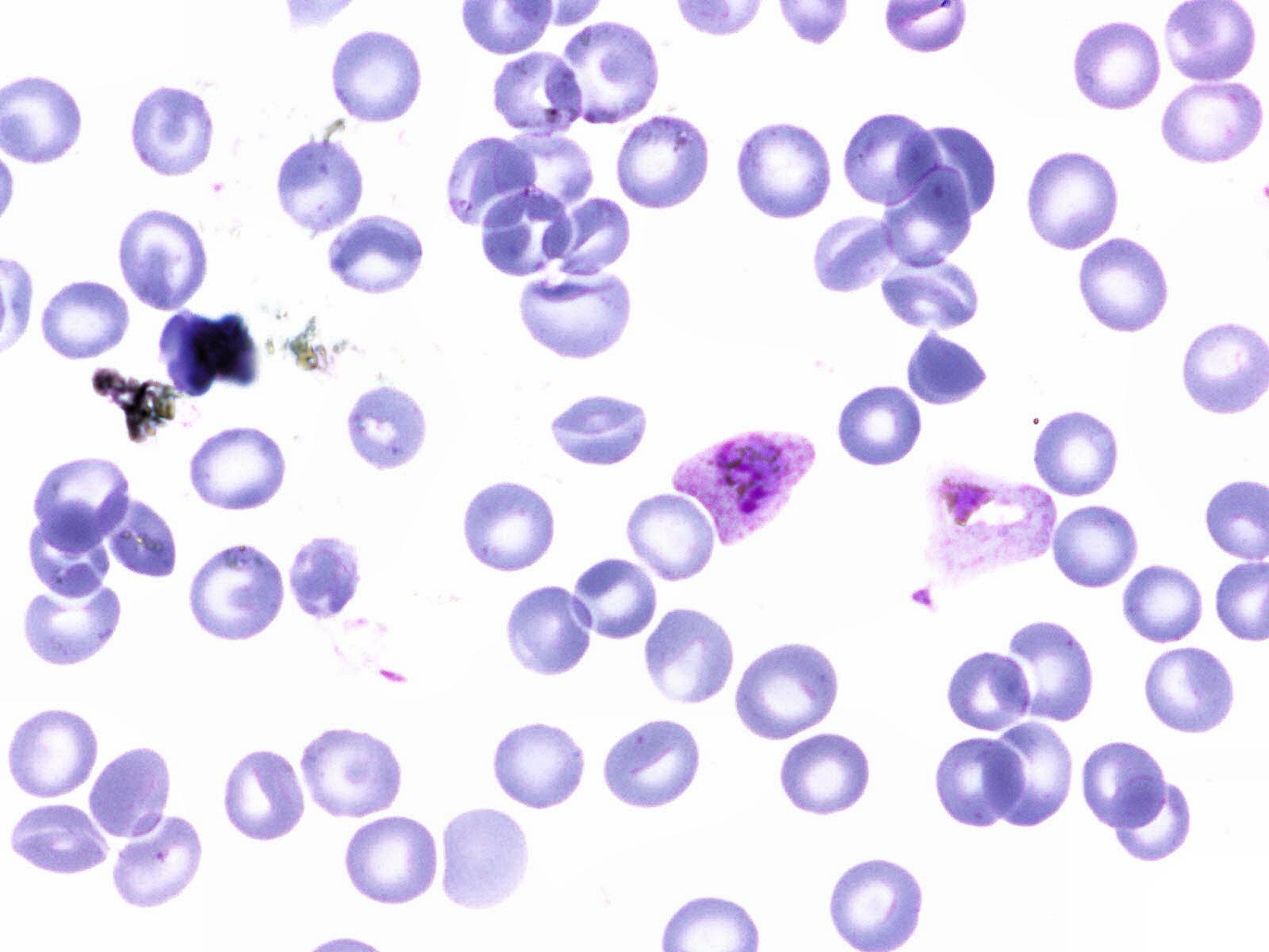Infected: (669, 429, 819, 545), (921, 469, 1064, 583)
Uninfected: (734, 638, 844, 744), (557, 18, 661, 128), (980, 716, 1075, 831), (842, 106, 947, 209), (186, 537, 287, 644), (515, 268, 628, 363), (442, 131, 547, 233), (998, 620, 1098, 727), (112, 204, 209, 313), (32, 450, 132, 555), (106, 806, 205, 912), (732, 120, 834, 222), (895, 121, 998, 222), (878, 157, 966, 275), (1026, 147, 1121, 256), (301, 722, 404, 820), (598, 719, 704, 814), (613, 111, 711, 210), (1066, 15, 1166, 112), (329, 27, 425, 128), (1076, 236, 1171, 337), (490, 128, 596, 218), (186, 422, 286, 517), (642, 605, 734, 708), (84, 739, 170, 849), (1157, 75, 1262, 165), (1078, 735, 1173, 834), (24, 575, 125, 668), (440, 806, 530, 910), (5, 706, 101, 802), (935, 732, 1029, 830), (1141, 643, 1237, 738), (460, 482, 558, 574), (565, 551, 664, 642), (275, 134, 363, 236), (475, 186, 573, 277), (1179, 320, 1268, 420), (491, 718, 585, 812), (491, 46, 586, 139), (343, 816, 439, 908), (27, 497, 110, 601), (624, 490, 718, 581), (130, 83, 217, 181), (1030, 409, 1122, 501), (1048, 502, 1144, 590), (776, 732, 873, 819), (323, 218, 427, 298), (806, 212, 905, 296), (222, 748, 308, 844), (547, 391, 650, 471), (506, 583, 591, 679), (941, 652, 1035, 737), (37, 277, 132, 361), (1107, 777, 1193, 869), (8, 802, 113, 877), (876, 255, 981, 330), (837, 383, 926, 469), (543, 193, 628, 282), (286, 532, 366, 622), (98, 489, 177, 580), (903, 328, 991, 406), (347, 388, 429, 470), (1120, 564, 1205, 643)
